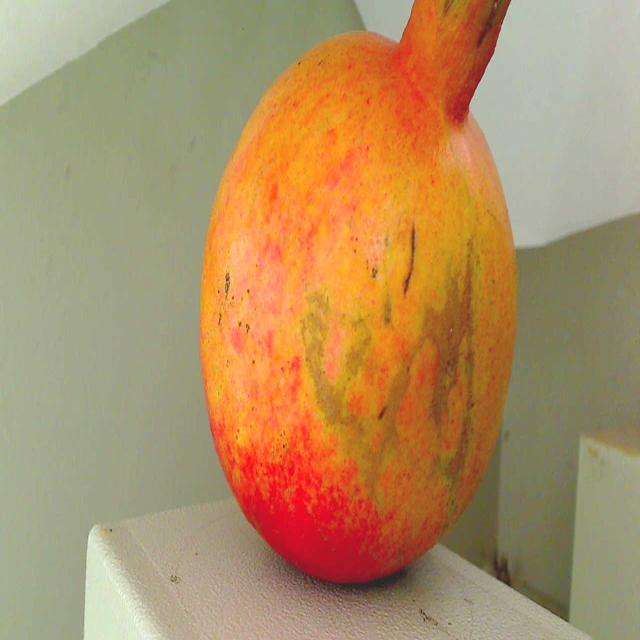pomegranate: (190, 0, 541, 592)
